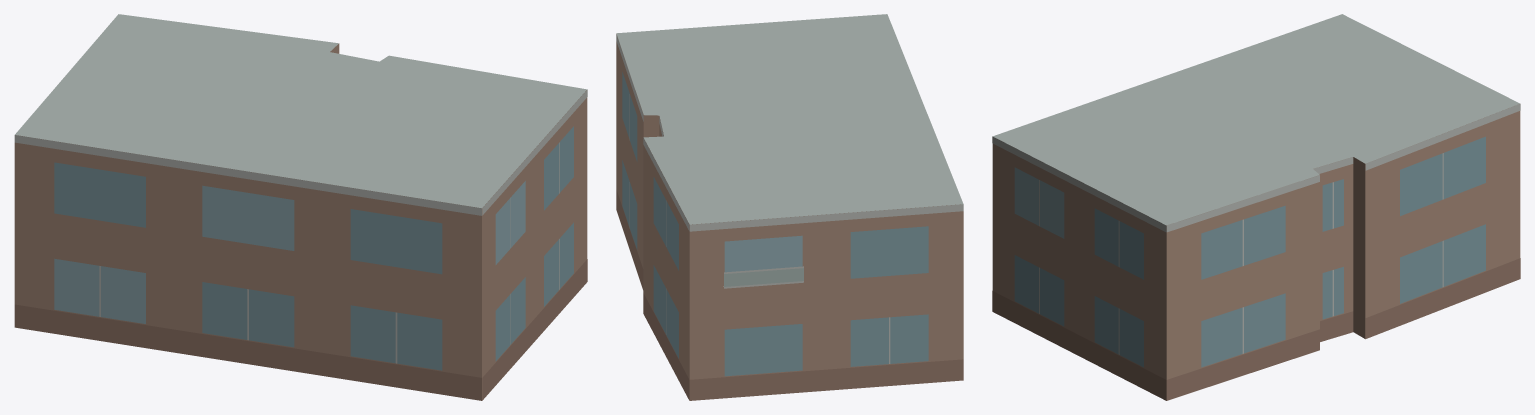
The model's file is survey-upis-32627326.glb.
3 renders of one model, left to right at view 1: azimuth 30°, elevation 25°; view 2: azimuth 150°, elevation 25°; view 3: azimuth 270°, elevation 25°, orthographic. The views are drawn at different scales.
Visible parts, largest first — view 1: survey-upis-32627326.tmp; view 2: survey-upis-32627326.tmp; view 3: survey-upis-32627326.tmp.
Boxes of the visible parts, left/top/right/bottom form: survey-upis-32627326.tmp: left=14, top=14, right=587, bottom=400; survey-upis-32627326.tmp: left=616, top=14, right=963, bottom=400; survey-upis-32627326.tmp: left=992, top=14, right=1520, bottom=400.
Size of the model in its own units: 15.79 by 6.1 by 16.65.
